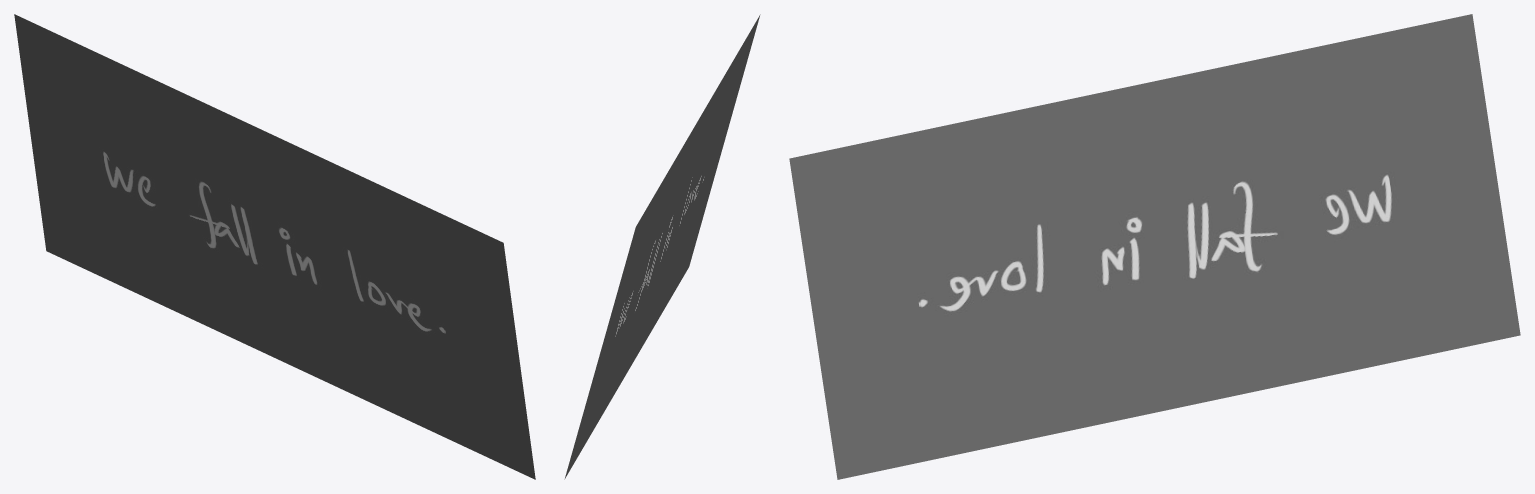
The picture shows the model from 3 angles, left to right: view 1: azimuth 30°, elevation 25°; view 2: azimuth 150°, elevation 25°; view 3: azimuth 270°, elevation 25°; orthographic projection. The views are drawn at different scales.
Visible parts, largest first — view 1: Plane.014; view 2: Plane.014; view 3: Plane.014.
Boxes of the visible parts, x1,y1,x2,y2 form: Plane.014: [14, 14, 535, 479]; Plane.014: [564, 14, 760, 479]; Plane.014: [789, 14, 1520, 479].
Size of the model in its own units: 1.07 by 1.37 by 2.65.
1 material, 1 textured.
